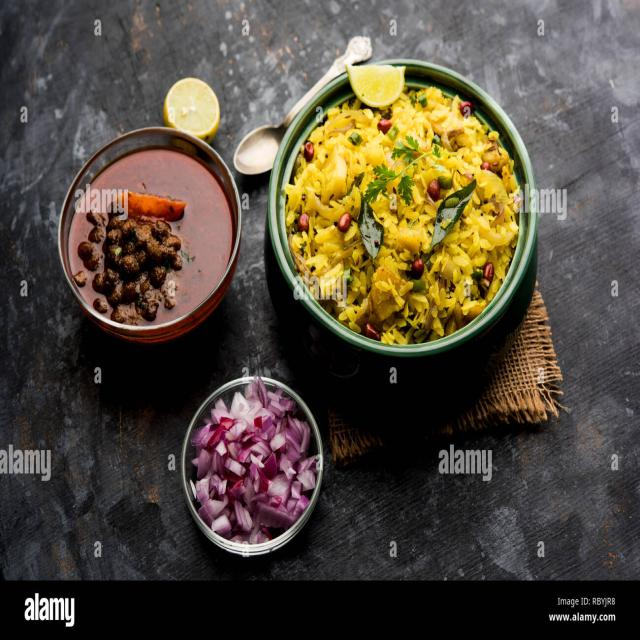POHA: (285, 89, 519, 340)
